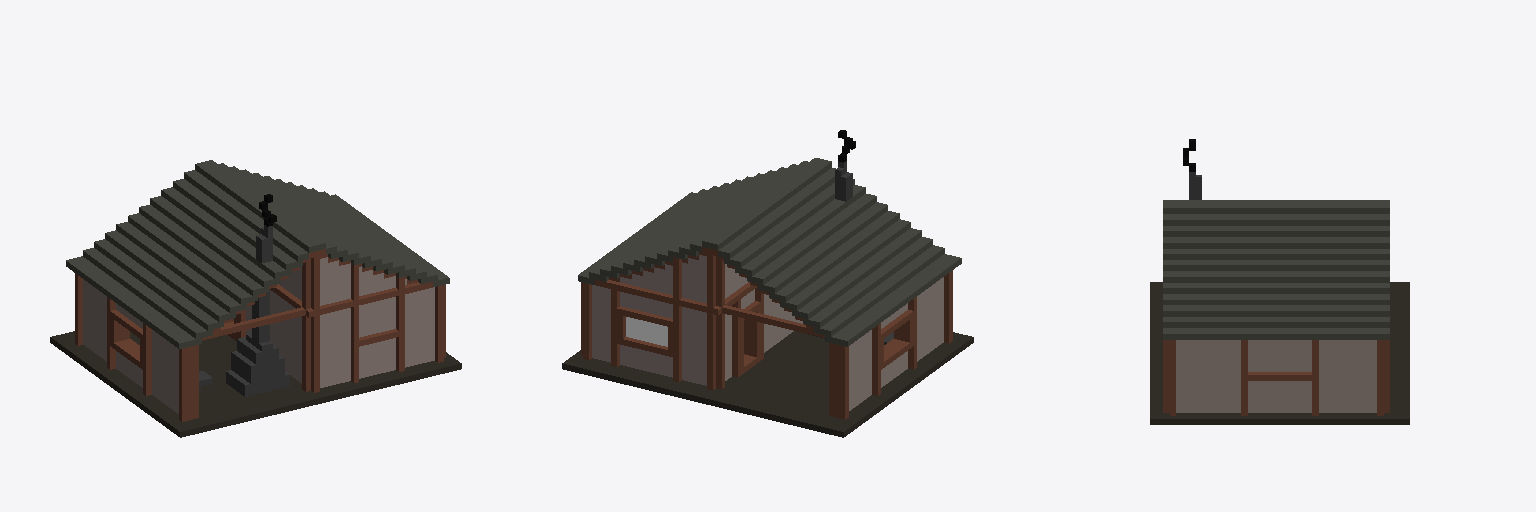
3 views of the same model, side by side, from view 1: azimuth 30°, elevation 25°; view 2: azimuth 150°, elevation 25°; view 3: azimuth 270°, elevation 25° (orthographic).
Parts seen in each view (by area): view 1: object 1; view 2: object 1; view 3: object 1.
Part boxes in pixels (x1,y1,x2,y2): object 1: (50, 160, 461, 437); object 1: (562, 130, 973, 437); object 1: (1150, 139, 1409, 424).
Size of the model in its own units: 5 by 3.4 by 4.
1 materials, 1 textured.